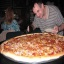pizza: (1, 34, 62, 59)
